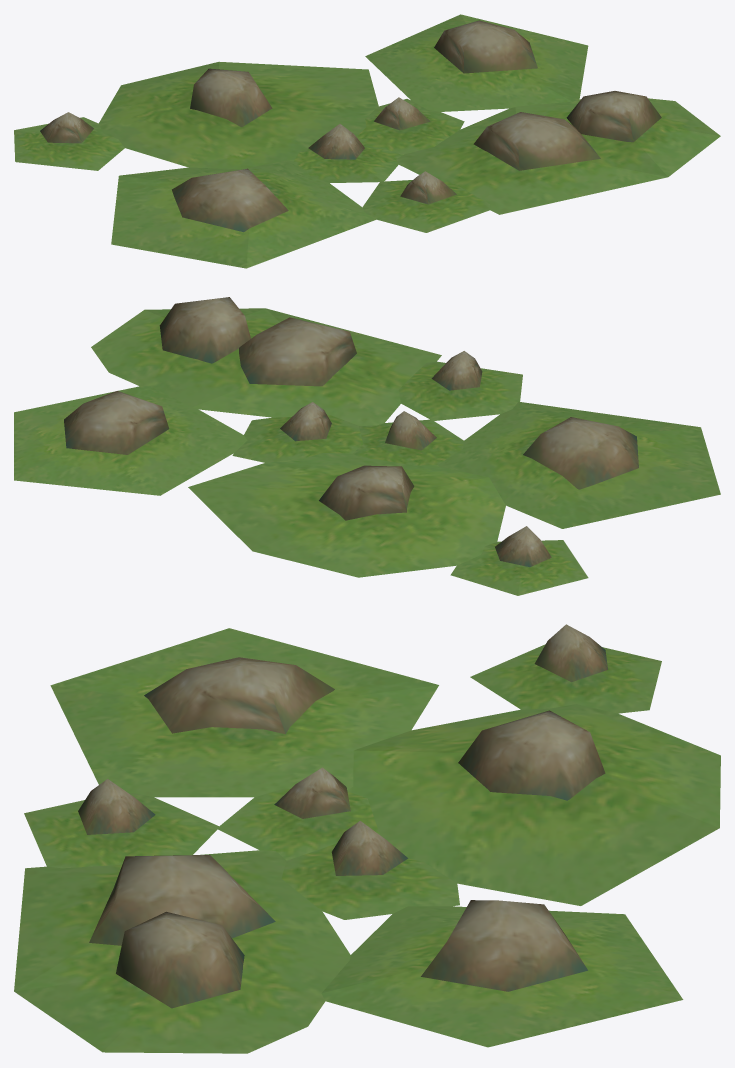
The model's file is SoilGradeA02_4Grid_04.FBX.
The picture shows the model from 3 angles, top to bottom: view 1: azimuth 30°, elevation 25°; view 2: azimuth 150°, elevation 25°; view 3: azimuth 270°, elevation 25°; orthographic projection. The views are drawn at different scales.
Visible parts, largest first — view 1: SoilGradeA02_4Grid_04; view 2: SoilGradeA02_4Grid_04; view 3: SoilGradeA02_4Grid_04.
Part boxes in pixels (x1,y1,x2,y2): SoilGradeA02_4Grid_04: (14, 14, 720, 268); SoilGradeA02_4Grid_04: (14, 297, 720, 595); SoilGradeA02_4Grid_04: (14, 624, 720, 1053).
Size of the model in its own units: 4.86 by 0.3724 by 3.41.
